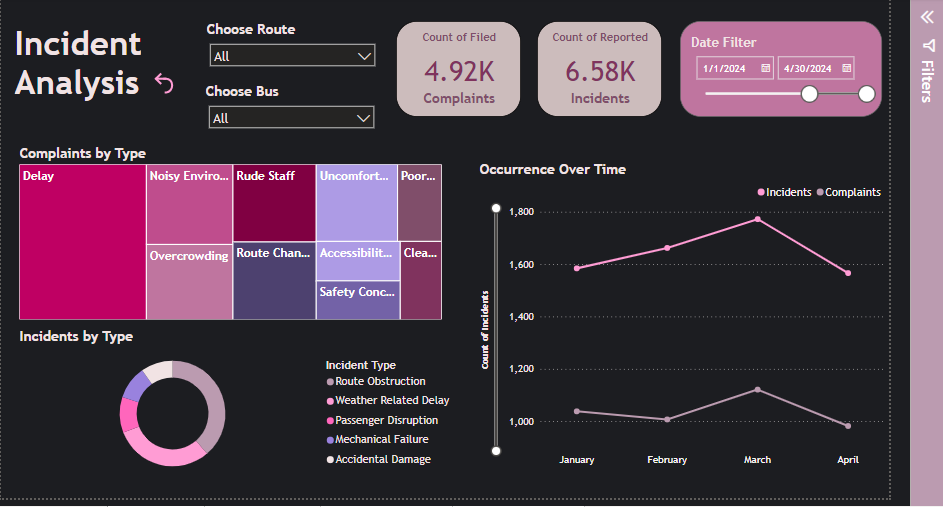

The page's visual inventory and layout, read from the dashboard file:
{"tool":"powerbi","page":{"name":"Incident Analysis","canvas":[1280,720],"ordinal":2},"visuals":[{"type":"lineChart","title":"Occurrence Over Time","fields":{"Category":["public Fact Table Snapshot.DateID.Variation.Date Hierarchy.Year","public Fact Table Snapshot.DateID.Variation.Date Hierarchy.Quarter","public Fact Table Snapshot.DateID.Variation.Date Hierarchy.Month","public Fact Table Snapshot.DateID.Variation.Date Hierarchy.Day"],"Y":["CountNonNull(public Fact Table Snapshot.IncidentID)","CountNonNull(public Fact Table Snapshot.ComplaintID)"]},"box":[684,234.7,593.3,463.7],"z":0},{"type":"textbox","box":[14.4,31.7,247.7,125.3],"z":1000},{"type":"card","fields":{"Values":["Sum(public Fact Table Snapshot.IncidentCount)"]},"box":[771.8,33.1,180,138.2],"z":2000},{"type":"slicer","title":"Date Filter","fields":{"Values":["public Fact Table Snapshot.DateID"]},"box":[977.8,33.1,290.9,138.2],"z":3000},{"type":"treemap","title":"Complaints by Type","fields":{"Values":["Sum(public Fact Table Snapshot.CountAirCon)","Sum(public Fact Table Snapshot.CountCleanliness)","Sum(public Fact Table Snapshot.CountRudeStaff)","Sum(public Fact Table Snapshot.CountRouteChange)","Sum(public Fact Table Snapshot.CountOvercrowding)","Sum(public Fact Table Snapshot.CountNoise)","Sum(public Fact Table Snapshot.CountDelay)","Sum(public Fact Table Snapshot.CountSafety)","Sum(public Fact Table Snapshot.CountSeats)","Sum(public Fact Table Snapshot.CountAccessibility)"]},"box":[21.6,211.7,617.8,256.3],"z":4000},{"type":"donutChart","title":"Incidents by Type","fields":{"Category":["public Fact Table Snapshot.IncType"],"Y":["CountNonNull(public Fact Table Snapshot.IncidentID)"]},"box":[21.6,475.2,637.9,223.2],"z":5000},{"type":"card","fields":{"Values":["Sum(public Fact Table Snapshot.ComplaintCount)"]},"box":[568.8,33.1,180,138.2],"z":6000},{"type":"slicer","title":"Choose Route","fields":{"Values":["public Fact Table Snapshot.RouteName"]},"box":[290.9,33.1,257.8,89.3],"z":7000},{"type":"slicer","title":"Choose Bus","fields":{"Values":["public Fact Table Snapshot.BusName"]},"box":[289.4,122.4,257.8,89.3],"z":8000},{"type":"actionButton","box":[214.6,102.2,47.5,40.3],"z":9000}]}

Visuals, with their boxes on the page's 1280x720 design canvas (x1, y1, x2, y2). These are canvas units, not pixel positions in the 943x507 screenshot, which may show the page scaled, cropped or inside an application window:
"Occurrence Over Time" lineChart: [x1=684, y1=235, x2=1277, y2=698]
textbox: [x1=14, y1=32, x2=262, y2=157]
card - Sum(public Fact Table Snapshot.IncidentCount): [x1=772, y1=33, x2=952, y2=171]
"Date Filter" slicer: [x1=978, y1=33, x2=1269, y2=171]
"Complaints by Type" treemap: [x1=22, y1=212, x2=639, y2=468]
"Incidents by Type" donutChart: [x1=22, y1=475, x2=660, y2=698]
card - Sum(public Fact Table Snapshot.ComplaintCount): [x1=569, y1=33, x2=749, y2=171]
"Choose Route" slicer: [x1=291, y1=33, x2=549, y2=122]
"Choose Bus" slicer: [x1=289, y1=122, x2=547, y2=212]
actionButton: [x1=215, y1=102, x2=262, y2=142]
